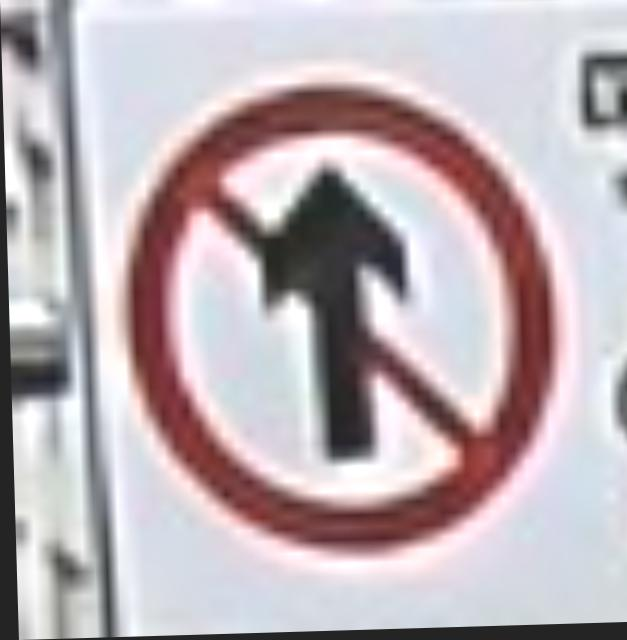not_go_straight: (122, 71, 565, 561)
